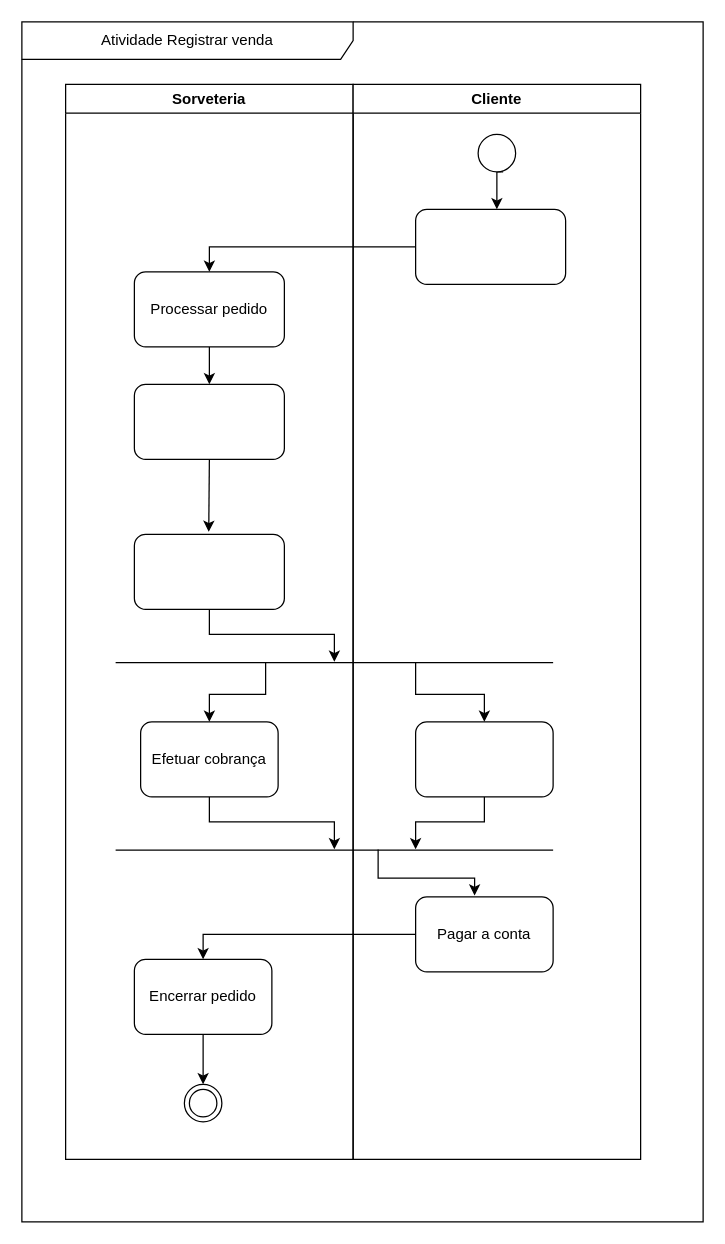
This 725x1244 diagram has some shape labels left out. Here are the shapes that lost their labels. From the top down, the centre of each, then its label:
(x=490, y=246): Solicitar produto(s)
(x=208, y=421): Separar produto(s)
(x=208, y=571): Enviar pedido
(x=483, y=759): Receber pedido
